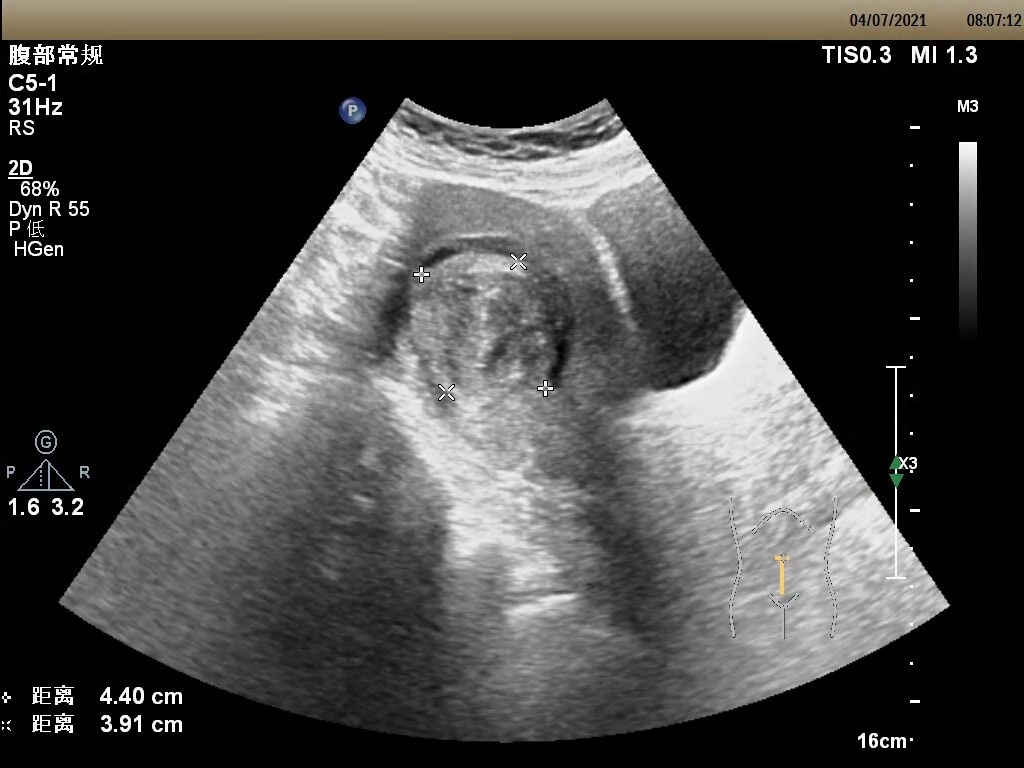肌瘤: (419, 261, 552, 396)
